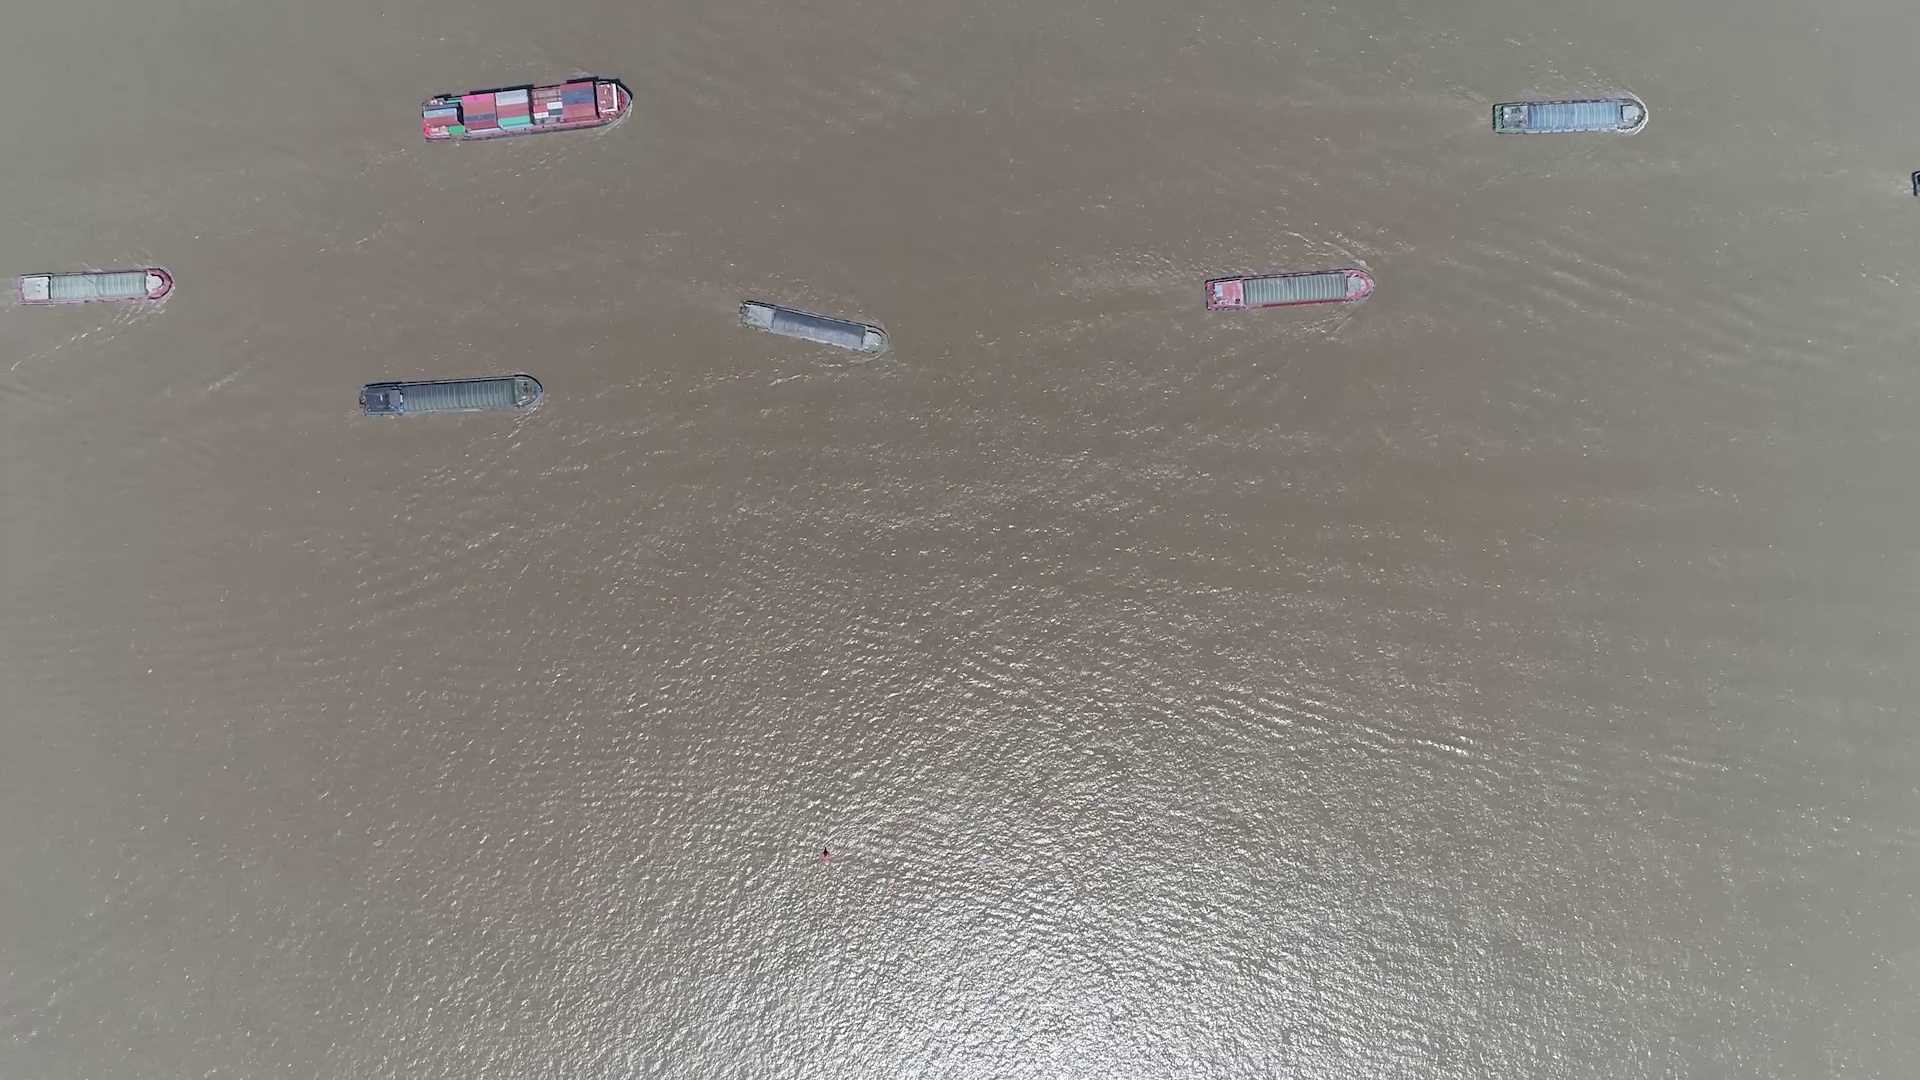ship: (421, 80, 632, 141), (738, 301, 887, 355), (360, 376, 542, 417), (1203, 269, 1373, 311), (1493, 98, 1644, 133), (16, 272, 169, 303)
